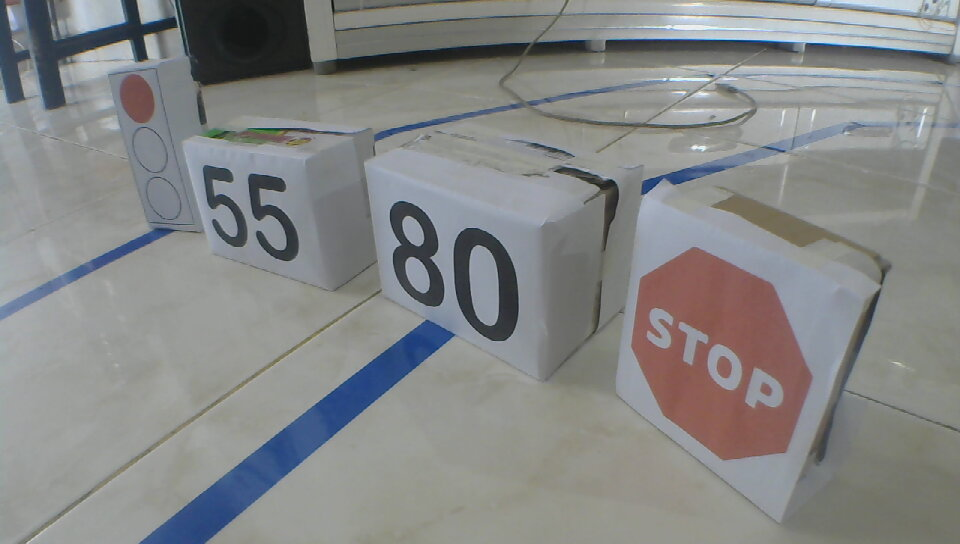Red Light: (119, 75, 183, 223)
Speed 55: (198, 160, 301, 267)
Speed 80: (384, 197, 522, 345)
Stop: (631, 247, 812, 464)
